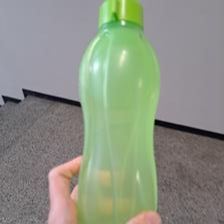bottle: (75, 1, 162, 223)
